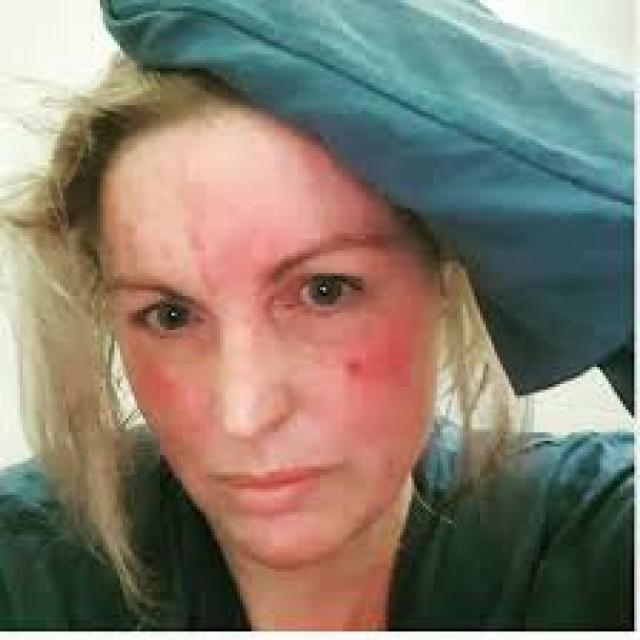Eczema: (328, 339, 416, 409)
